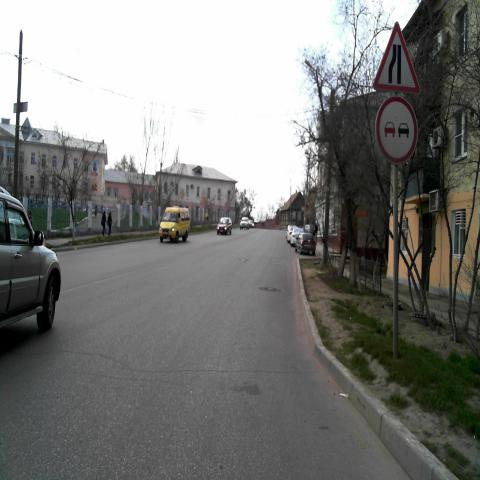1_20_3: (373, 19, 423, 98)
